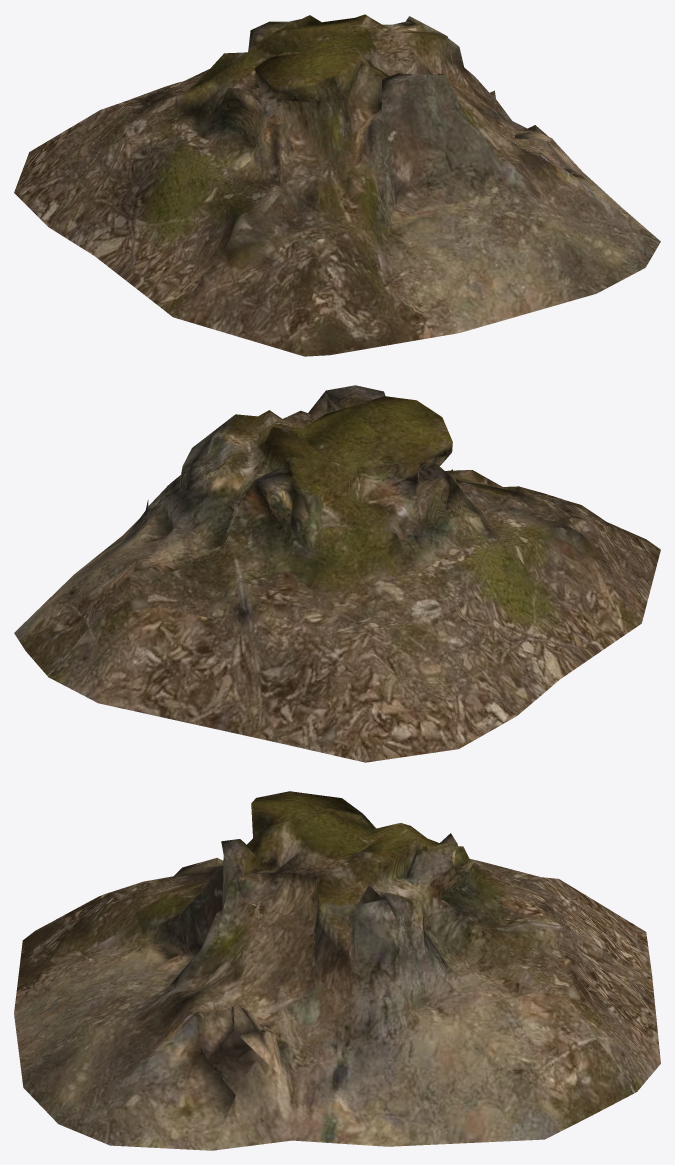
Rendered from tree_stump_01.glb.
The picture shows the model from 3 angles, top to bottom: view 1: azimuth 30°, elevation 25°; view 2: azimuth 150°, elevation 25°; view 3: azimuth 270°, elevation 25°; orthographic projection. The views are drawn at different scales.
Parts seen in each view (by area): view 1: tree_stump_01; view 2: tree_stump_01; view 3: tree_stump_01.
Part boxes in pixels (<box>): tree_stump_01: <box>14,14,660,356</box>; tree_stump_01: <box>14,385,660,762</box>; tree_stump_01: <box>14,791,660,1150</box>.
Size of the model in its own units: 1.42 by 0.5646 by 1.59.
1 material, 1 textured.
